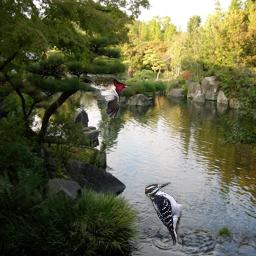Woodpecker: (145, 182, 182, 245), (79, 74, 131, 118)
